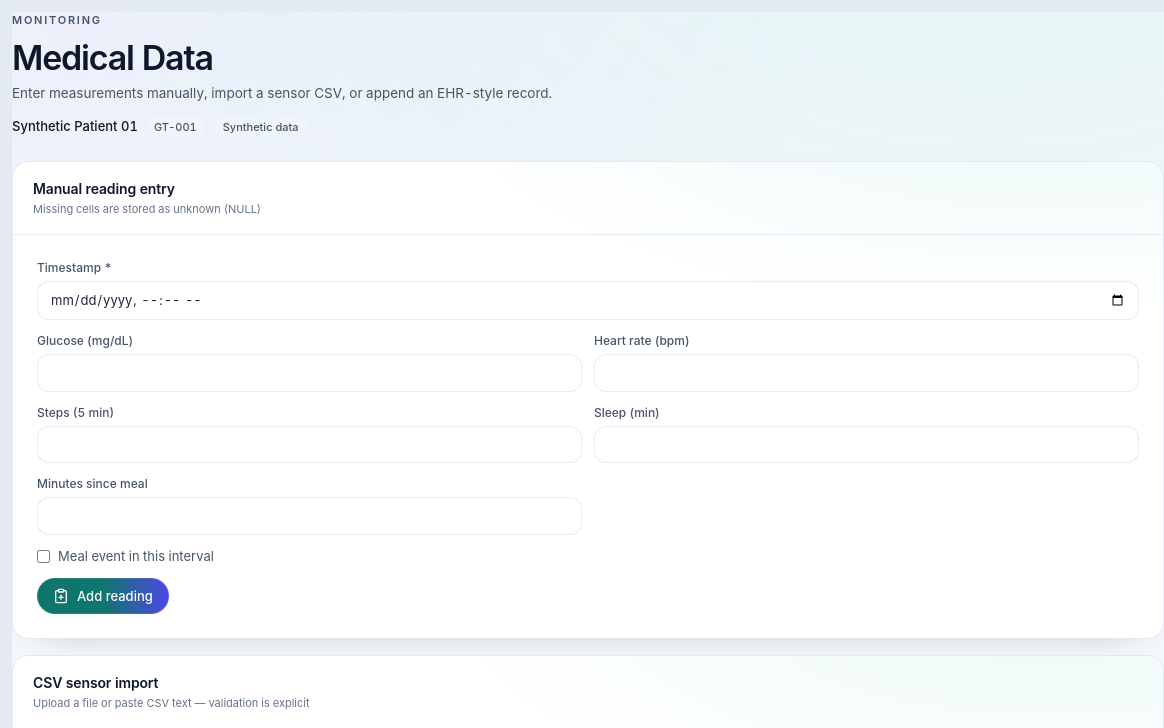
Test: DataEntry (manual + CSV import) › requires at least one measurement value
Type "2026-10-15T09:00" into the field labelled "Timestamp *" at (588, 301), box [37,281,1139,320]
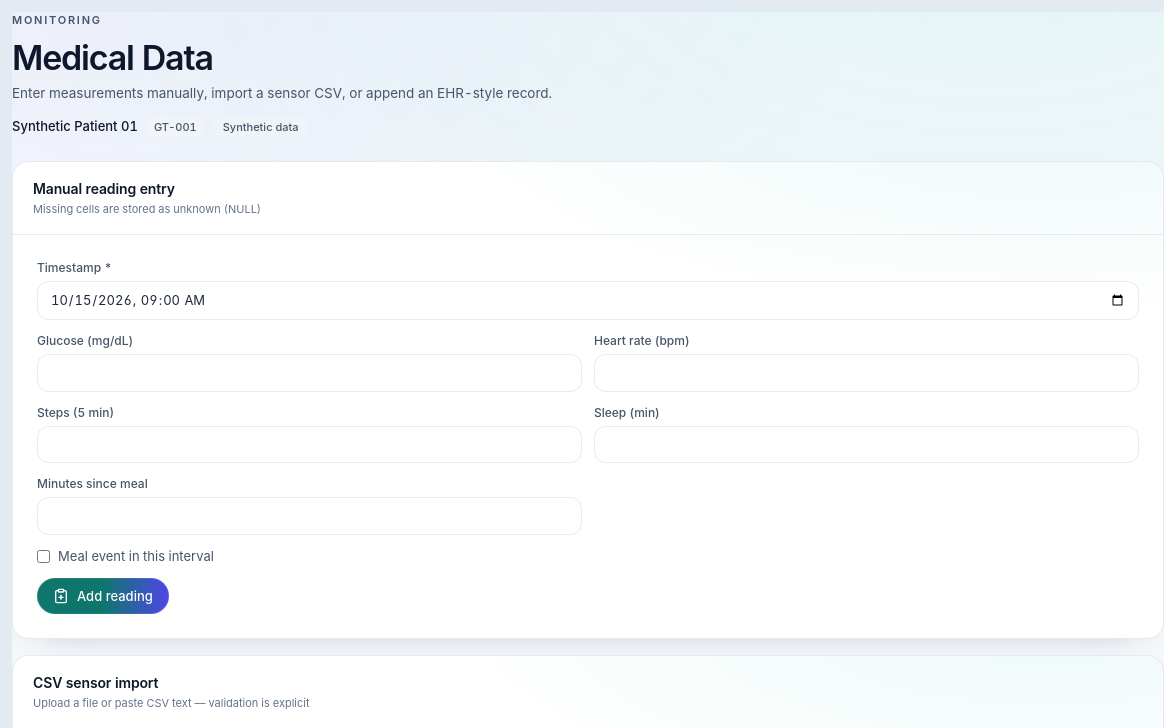
Click the button "Add reading" at (103, 596), box [37,578,169,614]
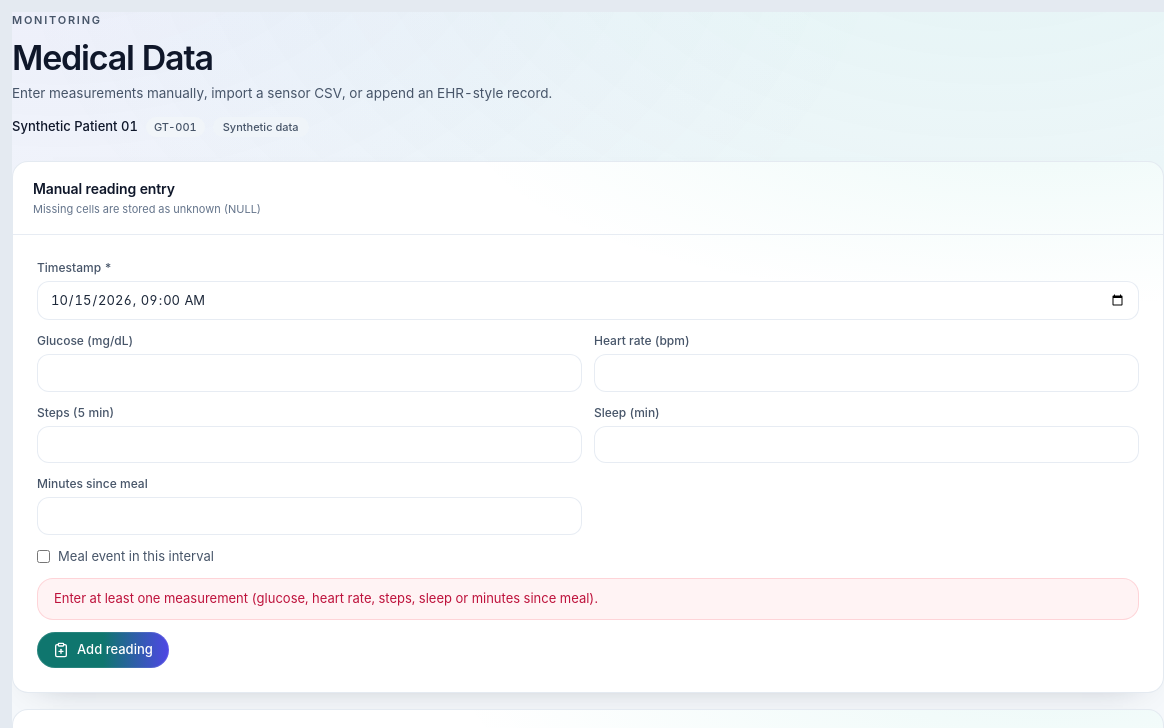
Expected: the text "Enter at least one measurement" is shown, [54,590,598,606]
